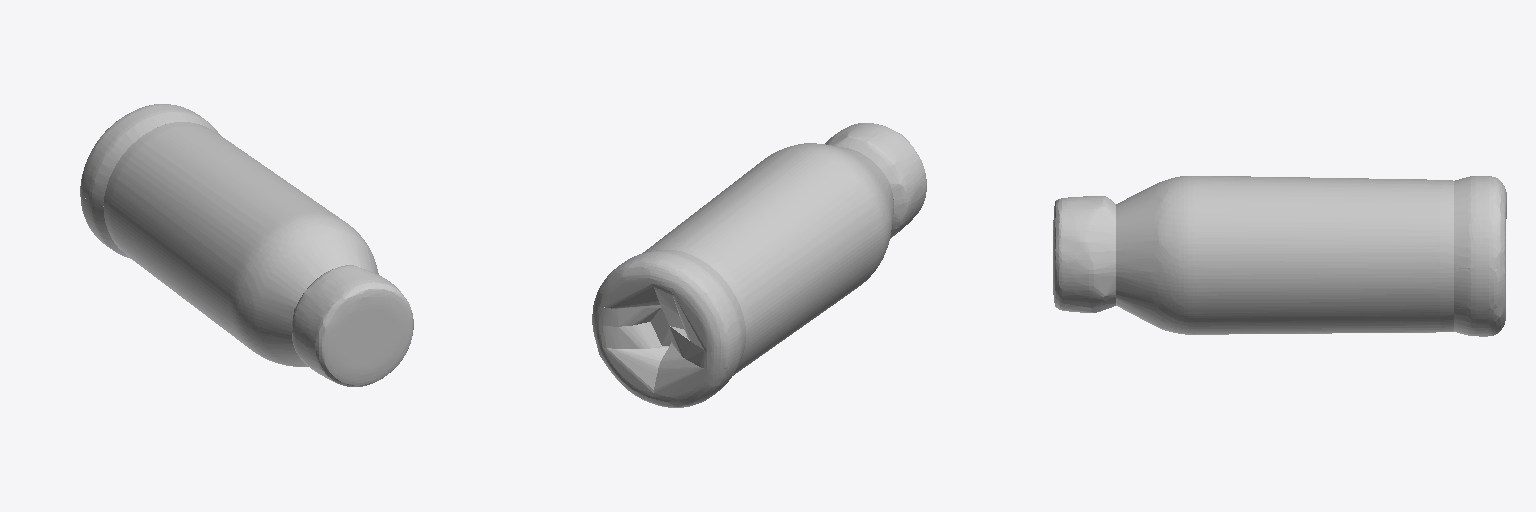
Rendered from coacd_collision.obj.
3 renders of one model, left to right at view 1: azimuth 30°, elevation 25°; view 2: azimuth 150°, elevation 25°; view 3: azimuth 270°, elevation 25°, orthographic.
Visible parts, largest first — view 1: geometry_1, geometry_0, geometry_5, geometry_7; view 2: geometry_1, geometry_5, geometry_0, geometry_6, geometry_7, geometry_2, geometry_9, geometry_3, geometry_4, geometry_10; view 3: geometry_1, geometry_0, geometry_7, geometry_2, geometry_8, geometry_9, geometry_10.
Boxes of the visible parts, box(x1,y1,x2,y2) form: geometry_1: box(104, 122, 378, 366); geometry_0: box(292, 265, 413, 386); geometry_5: box(80, 113, 150, 207); geometry_7: box(151, 104, 219, 134); geometry_1: box(642, 143, 893, 375); geometry_5: box(672, 258, 745, 351); geometry_0: box(825, 123, 926, 238); geometry_6: box(654, 343, 742, 407); geometry_7: box(595, 250, 676, 308); geometry_2: box(596, 343, 668, 404); geometry_9: box(592, 319, 661, 348); geometry_3: box(653, 251, 696, 329); geometry_4: box(670, 326, 745, 369); geometry_10: box(592, 301, 660, 326); geometry_1: box(1116, 176, 1453, 334); geometry_0: box(1053, 196, 1115, 312); geometry_7: box(1454, 184, 1506, 269); geometry_2: box(1454, 304, 1505, 336); geometry_8: box(1454, 268, 1473, 309); geometry_9: box(1474, 284, 1505, 309); geometry_10: box(1474, 263, 1505, 289).
Bounding box in the file's own units: 57.73 × 58.11 × 163.